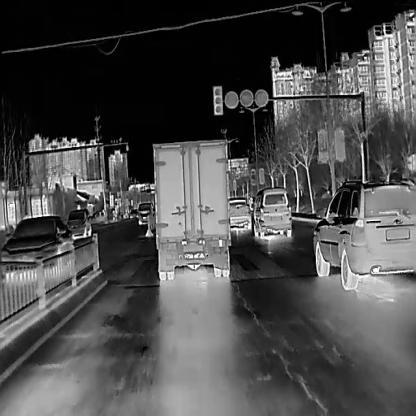car: (151, 137, 231, 282), (311, 178, 415, 289), (0, 215, 74, 276), (252, 185, 292, 236), (64, 207, 91, 238), (227, 196, 251, 229), (136, 202, 151, 225)
crosswalk: (233, 244, 315, 274), (96, 252, 156, 284)
light: (210, 85, 224, 118)
sign: (222, 88, 238, 112), (256, 88, 272, 110), (238, 89, 253, 109)
